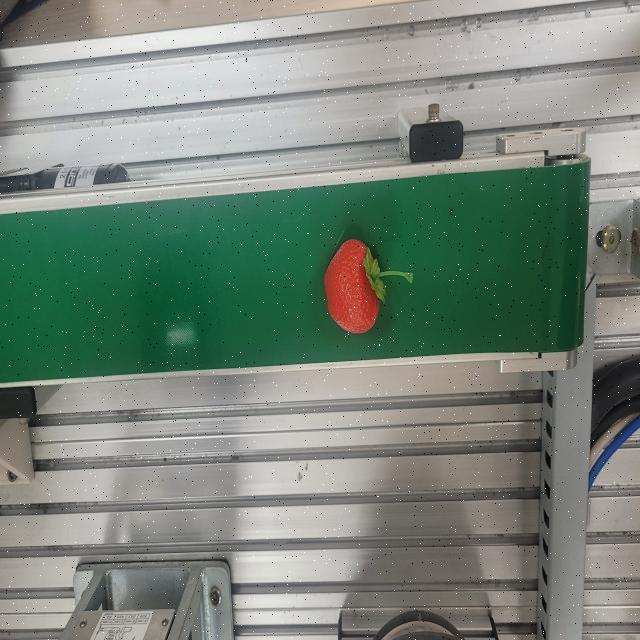Large Ripe Strawberry: (323, 235, 413, 335)
